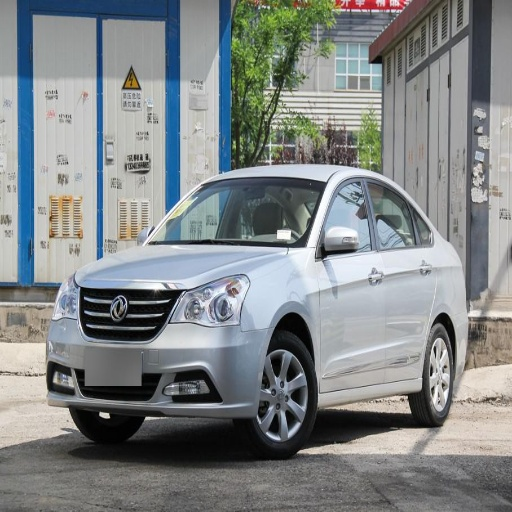front_bumper: (50, 282, 271, 419)
front_glass: (147, 178, 326, 247)
front_left_door: (316, 176, 385, 390)
